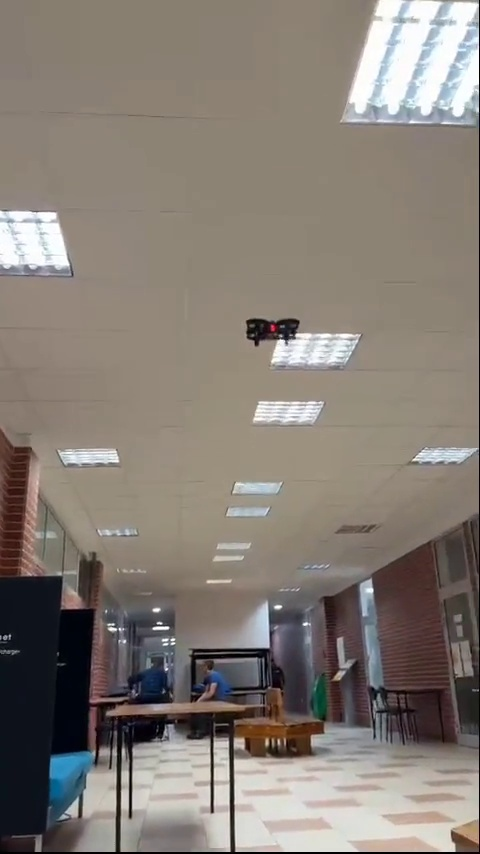drone: (247, 316, 298, 345)
no vest: (191, 652, 234, 710), (128, 653, 176, 701)
